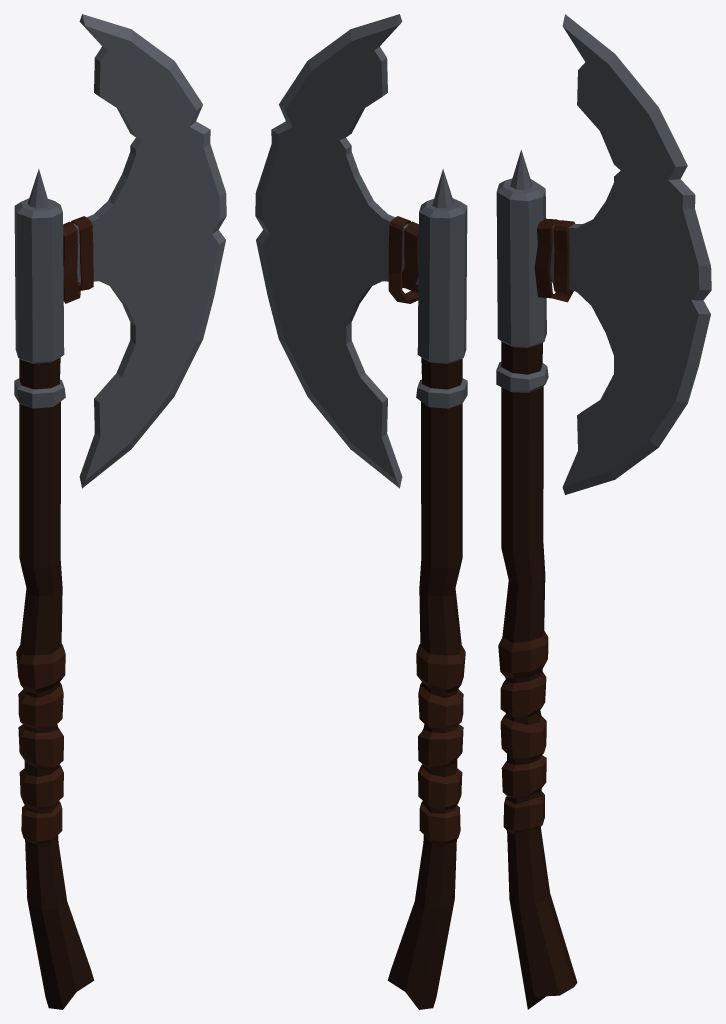
The model's file is Axe.obj.
The picture shows the model from 3 angles, left to right: view 1: azimuth 30°, elevation 25°; view 2: azimuth 150°, elevation 25°; view 3: azimuth 330°, elevation 25°; orthographic projection.
Parts seen in each view (by area): view 1: Axe_Cylinder.003; view 2: Axe_Cylinder.003; view 3: Axe_Cylinder.003.
Boxes of the visible parts, x1,y1,x2,y2 form: Axe_Cylinder.003: (14, 14, 226, 1009); Axe_Cylinder.003: (255, 14, 467, 1009); Axe_Cylinder.003: (496, 14, 711, 1009).
Bounding box in the file's own units: 1.17 × 5.26 × 0.2483.
